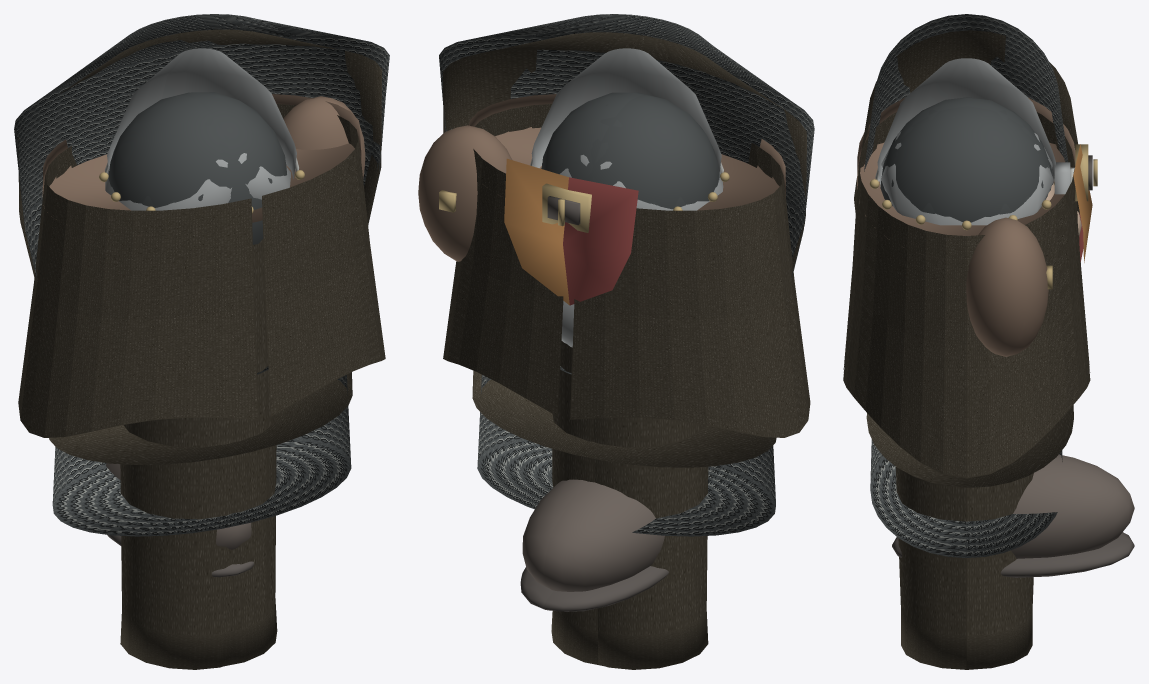
File: medieval_guard_rigged.glb
3 views of the same model, side by side, from view 1: azimuth 30°, elevation 25°; view 2: azimuth 150°, elevation 25°; view 3: azimuth 270°, elevation 25° (orthographic).
Parts seen in each view (by area): view 1: back_panel__Split tunic panel 1 -1, chest__Mail hauberk, back_panel__Split tunic panel -1 -1, r_hip__Padded thigh -1, chest__Linen surcoat torso, l_hip__Padded thigh 1, l_shoulder__Mail shoulder 1, head__Conical nasal helmet, pelvis__Waist belt, r_shoulder__Mail shoulder -1, front_panel__Split tunic panel 1 1, pelvis__Belt pouch (+3 smaller); view 2: front_panel__Split tunic panel 1 1, chest__Mail hauberk, chest__Linen surcoat torso, r_hip__Padded thigh -1, front_panel__Split tunic panel -1 1, l_shoulder__Mail shoulder 1, r_knee__Boot foot -1, pelvis__Belt pouch, chest__Painted shield red, head__Conical nasal helmet, chest__Painted shield orange, l_hip__Padded thigh 1 (+10 smaller); view 3: back_panel__Split tunic panel -1 -1, l_hip__Padded thigh 1, front_panel__Split tunic panel -1 1, chest__Mail hauberk, r_shoulder__Mail shoulder -1, pelvis__Belt pouch, chest__Linen surcoat torso, l_knee__Boot foot 1, head__Conical nasal helmet, pelvis__Waist belt, l_knee__Boot sole 1, r_shoulder__Iron shoulder cap -1 (+7 smaller).
Part boxes in pixels (left/top/right/bottom): back_panel__Split tunic panel 1 -1: left=29, top=193, right=258, bottom=437; chest__Mail hauberk: left=14, top=14, right=389, bottom=536; back_panel__Split tunic panel -1 -1: left=262, top=121, right=385, bottom=416; r_hip__Padded thigh -1: left=120, top=239, right=263, bottom=669; chest__Linen surcoat torso: left=18, top=29, right=382, bottom=464; l_hip__Padded thigh 1: left=226, top=246, right=277, bottom=665; l_shoulder__Mail shoulder 1: left=109, top=92, right=286, bottom=244; head__Conical nasal helmet: left=107, top=48, right=296, bottom=178; pelvis__Waist belt: left=42, top=94, right=361, bottom=235; r_shoulder__Mail shoulder -1: left=108, top=92, right=286, bottom=209; front_panel__Split tunic panel 1 1: left=18, top=145, right=76, bottom=432; pelvis__Belt pouch: left=283, top=96, right=365, bottom=178; front_panel__Split tunic panel 1 1: left=570, top=193, right=799, bottom=437; chest__Mail hauberk: left=439, top=14, right=814, bottom=536; chest__Linen surcoat torso: left=443, top=32, right=806, bottom=467; r_hip__Padded thigh -1: left=593, top=417, right=708, bottom=669; front_panel__Split tunic panel -1 1: left=443, top=122, right=563, bottom=416; l_shoulder__Mail shoulder 1: left=541, top=93, right=718, bottom=209; r_knee__Boot foot -1: left=544, top=482, right=664, bottom=591; pelvis__Belt pouch: left=418, top=125, right=512, bottom=261; chest__Painted shield red: left=563, top=177, right=638, bottom=305; head__Conical nasal helmet: left=531, top=48, right=721, bottom=173; chest__Painted shield orange: left=504, top=158, right=569, bottom=304; l_hip__Padded thigh 1: left=551, top=341, right=602, bottom=665; back_panel__Split tunic panel -1 -1: left=843, top=169, right=966, bottom=478; l_hip__Padded thigh 1: left=895, top=467, right=1033, bottom=669; front_panel__Split tunic panel -1 1: left=966, top=169, right=1090, bottom=478; chest__Mail hauberk: left=864, top=14, right=1068, bottom=557; r_shoulder__Mail shoulder -1: left=880, top=106, right=1052, bottom=222; pelvis__Belt pouch: left=966, top=217, right=1048, bottom=356; chest__Linen surcoat torso: left=854, top=30, right=1079, bottom=487; l_knee__Boot foot 1: left=1011, top=461, right=1134, bottom=558; head__Conical nasal helmet: left=877, top=58, right=1055, bottom=186; pelvis__Waist belt: left=857, top=97, right=1075, bottom=260; l_knee__Boot sole 1: left=892, top=538, right=1134, bottom=576; r_shoulder__Iron shoulder cap -1: left=881, top=131, right=1053, bottom=225.
Bounding box in the file's own units: 0.5441 × 0.8477 × 0.3807.
11 materials, 2 textured.
